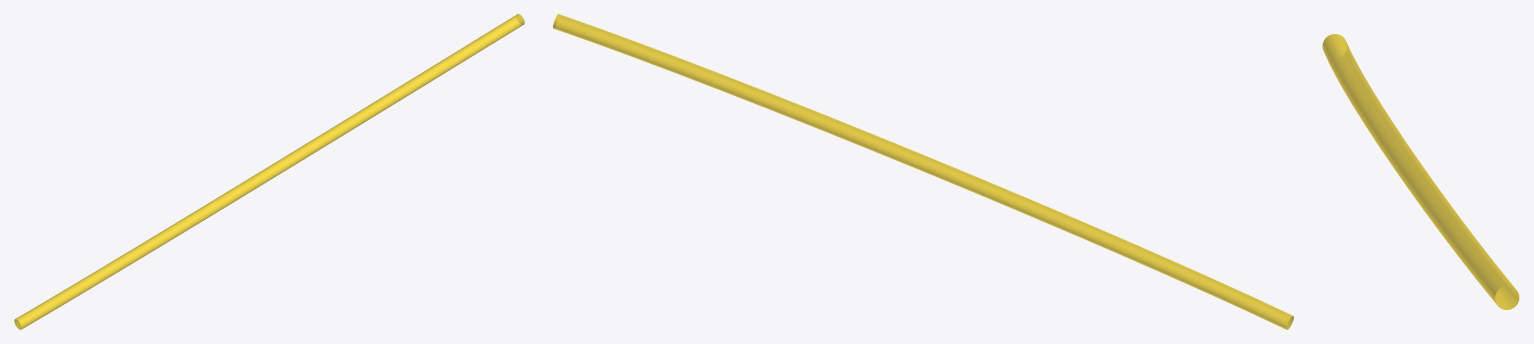
File: Event_100608114_track_63.fbx
The picture shows the model from 3 angles, left to right: view 1: azimuth 30°, elevation 25°; view 2: azimuth 150°, elevation 25°; view 3: azimuth 270°, elevation 25°; orthographic projection. The views are drawn at different scales.
Parts seen in each view (by area): view 1: Model; view 2: Model; view 3: Model.
Part boxes in pixels (x1=…): Model: x1=14, y1=14, x2=524, y2=329; Model: x1=553, y1=14, x2=1293, y2=329; Model: x1=1322, y1=34, x2=1519, y2=309.
Bounding box in the file's own units: 2.04 × 0.538 × 0.3176.
